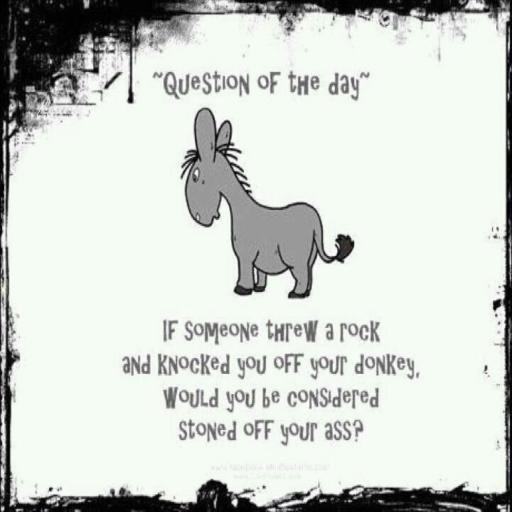horse: (178, 108, 356, 298)
